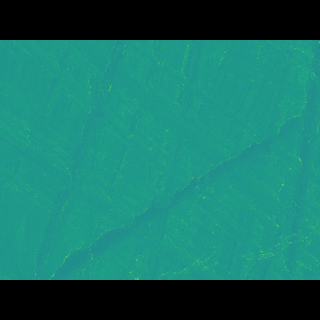Loch: (0, 69, 320, 248), (48, 123, 312, 250)
